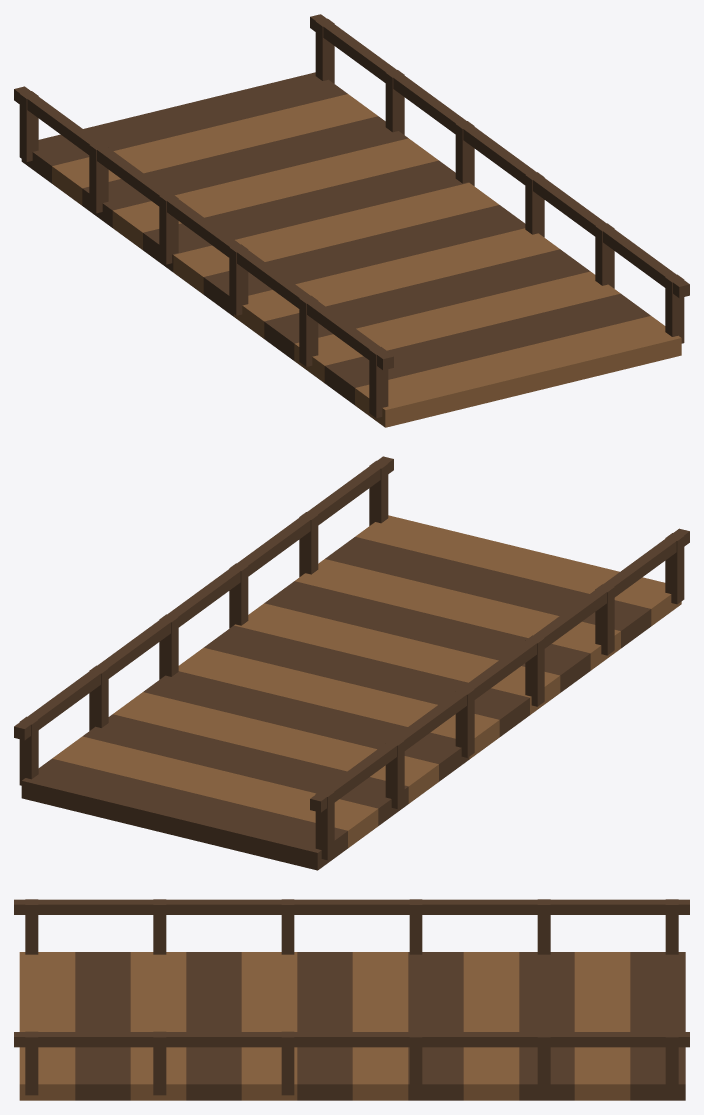
Rendered from canonical_bridge.glb.
The picture shows the model from 3 angles, top to bottom: view 1: azimuth 30°, elevation 25°; view 2: azimuth 150°, elevation 25°; view 3: azimuth 270°, elevation 25°; orthographic projection. The views are drawn at different scales.
Parts seen in each view (by area): view 1: plank_12, plank_11, plank_6, plank_8, plank_4, plank_1, plank_2, plank_9, plank_10, plank_3, plank_7, plank_5 (+14 smaller); view 2: plank_1, plank_2, plank_7, plank_5, plank_9, plank_12, plank_11, plank_3, plank_4, plank_10, plank_6, plank_8 (+14 smaller); view 3: rail_left, rail_right, plank_2, plank_4, plank_6, plank_7, plank_9, plank_11, plank_8, plank_10, plank_12, plank_1 (+14 smaller).
Part boxes in pixels (x1=…): plank_12: x1=355, y1=316, x2=681, y2=427; plank_11: x1=324, y1=293, x2=650, y2=405; plank_6: x1=173, y1=182, x2=499, y2=294; plank_8: x1=234, y1=228, x2=559, y2=338; plank_4: x1=112, y1=138, x2=438, y2=249; plank_1: x1=21, y1=72, x2=347, y2=183; plank_2: x1=52, y1=94, x2=377, y2=205; plank_9: x1=264, y1=249, x2=590, y2=360; plank_10: x1=294, y1=271, x2=620, y2=382; plank_3: x1=82, y1=116, x2=408, y2=227; plank_7: x1=203, y1=205, x2=525, y2=316; plank_5: x1=143, y1=160, x2=468, y2=271; plank_1: x1=21, y1=758, x2=347, y2=870; plank_2: x1=52, y1=736, x2=378, y2=848; plank_7: x1=204, y1=625, x2=529, y2=736; plank_5: x1=143, y1=671, x2=469, y2=781; plank_9: x1=264, y1=581, x2=590, y2=692; plank_12: x1=355, y1=515, x2=681, y2=625; plank_11: x1=325, y1=537, x2=651, y2=648; plank_3: x1=82, y1=714, x2=408, y2=825; plank_4: x1=113, y1=692, x2=438, y2=803; plank_10: x1=295, y1=559, x2=620, y2=670; plank_6: x1=178, y1=647, x2=499, y2=759; plank_8: x1=234, y1=603, x2=560, y2=714; rail_left: x1=14, y1=899, x2=689, y2=914; rail_right: x1=14, y1=1032, x2=689, y2=1047; plank_2: x1=574, y1=952, x2=630, y2=1100; plank_4: x1=463, y1=952, x2=519, y2=1100; plank_6: x1=352, y1=952, x2=408, y2=1100; plank_7: x1=297, y1=952, x2=352, y2=1100; plank_9: x1=186, y1=952, x2=241, y2=1100; plank_11: x1=75, y1=952, x2=130, y2=1100; plank_8: x1=241, y1=952, x2=297, y2=1100; plank_10: x1=130, y1=952, x2=186, y2=1100; plank_12: x1=19, y1=952, x2=75, y2=1100; plank_1: x1=630, y1=952, x2=685, y2=1100.
Bounding box in the file's own units: 4.58 × 1.02 × 9.5.
